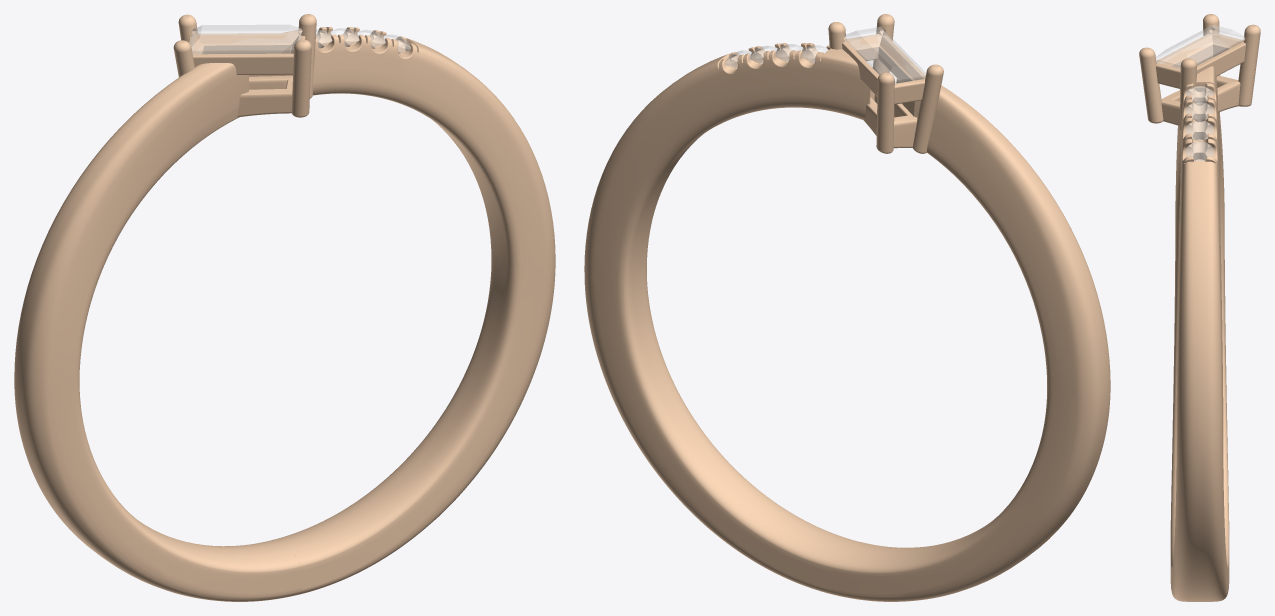
The model's file is agata.glb.
3 renders of one model, left to right at view 1: azimuth 30°, elevation 25°; view 2: azimuth 150°, elevation 25°; view 3: azimuth 270°, elevation 25°, orthographic. The views are drawn at different scales.
Parts seen in each view (by area): view 1: Metal 01(F0FE5A9A-FA87-414F-A743-9F34441093AE), Metal 01(A455508E-C985-41F9-B0A5-66D724F5E76B), Metal 01(36A62C81-4ACE-4232-96CD-3B46523FDA73), Diamond_Baguette Straight(2F9531C9-F355-4928-A028-19CF7B7886, Metal 01(FF39D17B-D1CC-4D7A-ABC4-8D347B63AFDC), Metal 01(C2D29B1C-39A7-4430-A8A6-A2801273670D); view 2: Metal 01(F0FE5A9A-FA87-414F-A743-9F34441093AE), Metal 01(A455508E-C985-41F9-B0A5-66D724F5E76B), Metal 01(36A62C81-4ACE-4232-96CD-3B46523FDA73), Diamond_Baguette Straight(2F9531C9-F355-4928-A028-19CF7B7886, Metal 01(7F413D32-AA67-4C59-A15B-EB66A12768B3), Metal 01(F1857D33-1291-4520-A043-EE62B889F8F6), Metal 01(CF570D2B-0352-461A-A8F6-90D386F94AB2); view 3: Metal 01(F0FE5A9A-FA87-414F-A743-9F34441093AE), Metal 01(A455508E-C985-41F9-B0A5-66D724F5E76B), Metal 01(36A62C81-4ACE-4232-96CD-3B46523FDA73), Diamond_Baguette Straight(2F9531C9-F355-4928-A028-19CF7B7886, Diamond_Round(FAB08196-BAFC-470A-8EE7-33E182F59F20) (×4), Metal 01(F1857D33-1291-4520-A043-EE62B889F8F6), Metal 01(FF39D17B-D1CC-4D7A-ABC4-8D347B63AFDC), Metal 01(20A0351C-1F1E-47ED-8876-08FC742FDC0F), Metal 01(F0A913A7-B6BB-442A-AEEF-DB2501BDC776), Metal 01(C2D29B1C-39A7-4430-A8A6-A2801273670D), Metal 01(7F413D32-AA67-4C59-A15B-EB66A12768B3).
Part boxes in pixels (left/top/right/bottom): Metal 01(F0FE5A9A-FA87-414F-A743-9F34441093AE): left=249, top=27, right=555, bottom=594; Metal 01(A455508E-C985-41F9-B0A5-66D724F5E76B): left=14, top=63, right=301, bottom=601; Metal 01(36A62C81-4ACE-4232-96CD-3B46523FDA73): left=188, top=33, right=305, bottom=74; Diamond_Baguette Straight(2F9531C9-F355-4928-A028-19CF7B7886: left=190, top=25, right=302, bottom=53; Metal 01(FF39D17B-D1CC-4D7A-ABC4-8D347B63AFDC): left=291, top=39, right=311, bottom=117; Metal 01(C2D29B1C-39A7-4430-A8A6-A2801273670D): left=246, top=77, right=292, bottom=115; Metal 01(F0FE5A9A-FA87-414F-A743-9F34441093AE): left=584, top=43, right=870, bottom=594; Metal 01(A455508E-C985-41F9-B0A5-66D724F5E76B): left=831, top=78, right=1110, bottom=601; Metal 01(36A62C81-4ACE-4232-96CD-3B46523FDA73): left=842, top=34, right=925, bottom=104; Diamond_Baguette Straight(2F9531C9-F355-4928-A028-19CF7B7886: left=844, top=27, right=925, bottom=83; Metal 01(7F413D32-AA67-4C59-A15B-EB66A12768B3): left=912, top=64, right=943, bottom=153; Metal 01(F1857D33-1291-4520-A043-EE62B889F8F6): left=876, top=72, right=894, bottom=153; Metal 01(CF570D2B-0352-461A-A8F6-90D386F94AB2): left=893, top=103, right=917, bottom=148; Metal 01(F0FE5A9A-FA87-414F-A743-9F34441093AE): left=1170, top=66, right=1229, bottom=601; Metal 01(A455508E-C985-41F9-B0A5-66D724F5E76B): left=1170, top=58, right=1229, bottom=545; Metal 01(36A62C81-4ACE-4232-96CD-3B46523FDA73): left=1156, top=33, right=1245, bottom=88; Diamond_Baguette Straight(2F9531C9-F355-4928-A028-19CF7B7886: left=1156, top=25, right=1244, bottom=68; Diamond_Round(FAB08196-BAFC-470A-8EE7-33E182F59F20) (×4): left=1186, top=86, right=1213, bottom=160; Metal 01(F1857D33-1291-4520-A043-EE62B889F8F6): left=1238, top=24, right=1260, bottom=106; Metal 01(FF39D17B-D1CC-4D7A-ABC4-8D347B63AFDC): left=1139, top=47, right=1163, bottom=123; Metal 01(20A0351C-1F1E-47ED-8876-08FC742FDC0F): left=1179, top=58, right=1196, bottom=130; Metal 01(F0A913A7-B6BB-442A-AEEF-DB2501BDC776): left=1217, top=81, right=1240, bottom=112; Metal 01(C2D29B1C-39A7-4430-A8A6-A2801273670D): left=1161, top=90, right=1180, bottom=125; Metal 01(7F413D32-AA67-4C59-A15B-EB66A12768B3): left=1203, top=14, right=1220, bottom=75.
Size of the model in its own units: 0.0198 by 0.0203 by 0.00427.
